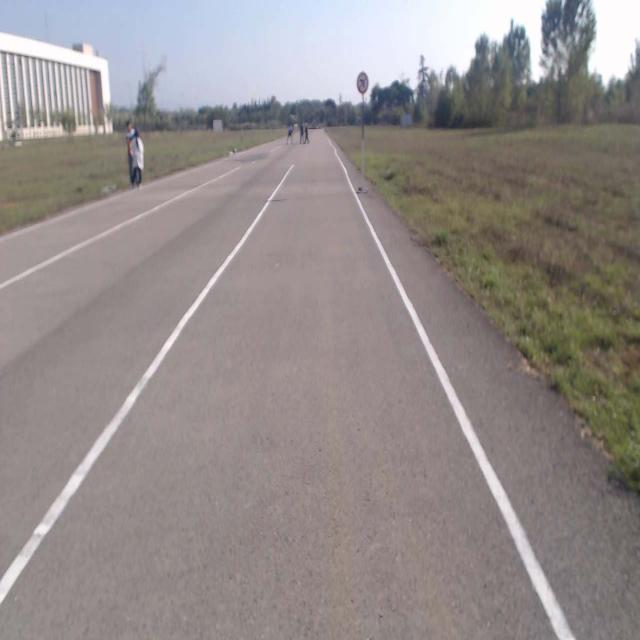soladonulmez: (356, 71, 368, 95)
